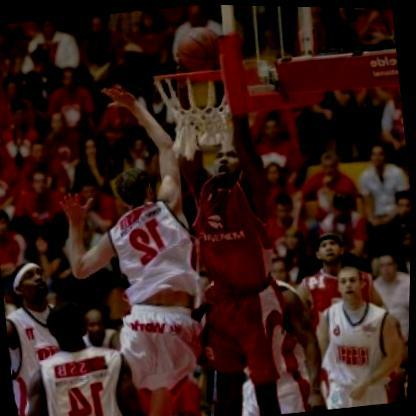basketball: (169, 19, 227, 76)
